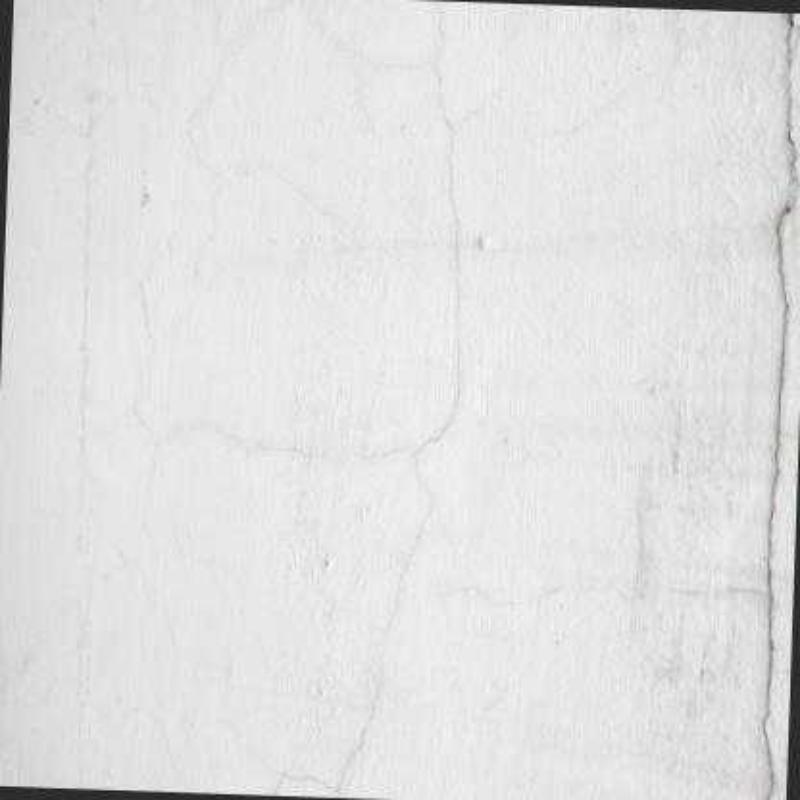crack: (762, 13, 796, 800)
